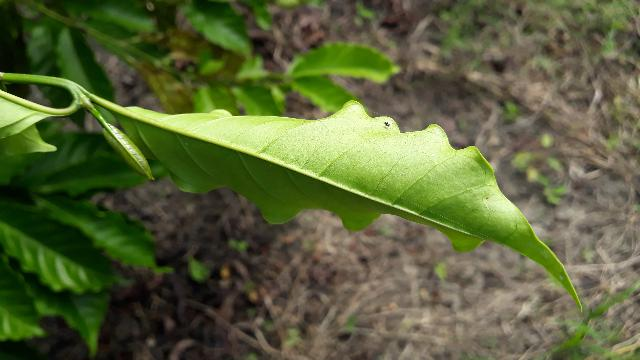healthy: (56, 45, 525, 261)
